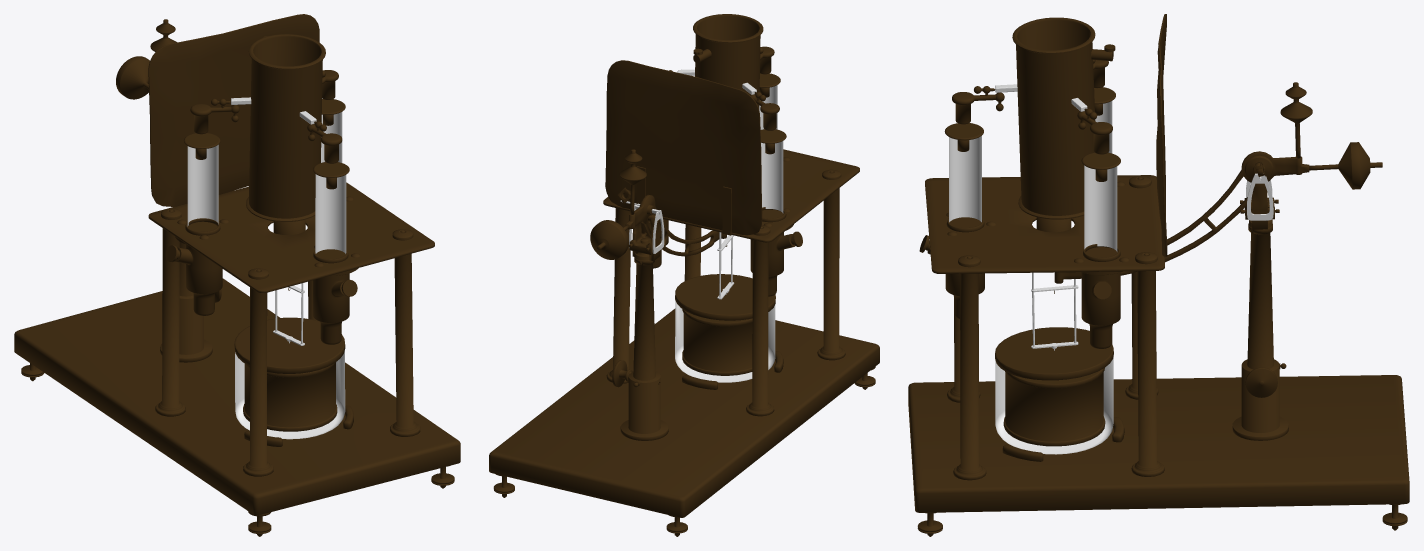
The model's file is electrometre.glb.
3 views of the same model, side by side, from view 1: azimuth 30°, elevation 25°; view 2: azimuth 150°, elevation 25°; view 3: azimuth 270°, elevation 25° (orthographic). The views are drawn at different scales.
Visible parts, largest first — view 1: Object_3; view 2: Object_3; view 3: Object_3.
Part boxes in pixels (x1,y1,x2,y2): Object_3: [14, 14, 460, 536]; Object_3: [489, 14, 879, 536]; Object_3: [908, 14, 1409, 536].
Size of the model in its own units: 0.2995 by 0.5393 by 0.5422.
